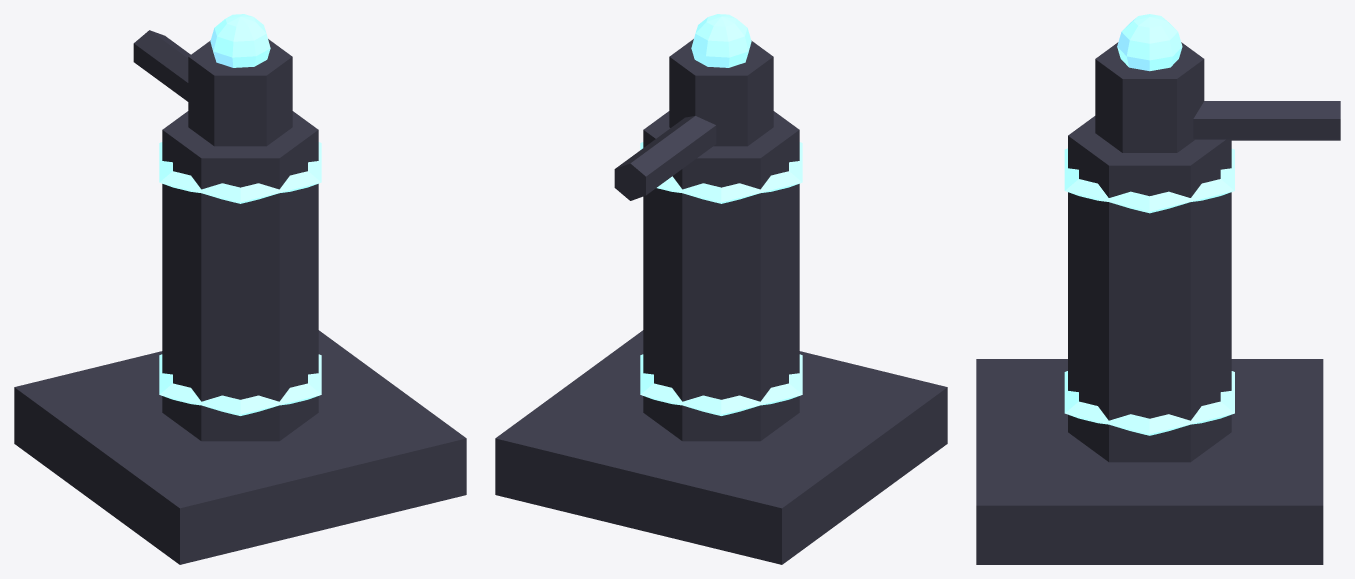
Rendered from tower_sniper.glb.
The picture shows the model from 3 angles, left to right: view 1: azimuth 30°, elevation 25°; view 2: azimuth 150°, elevation 25°; view 3: azimuth 270°, elevation 25°; orthographic projection. The views are drawn at different scales.
Visible parts, largest first — view 1: tower_sniper; view 2: tower_sniper; view 3: tower_sniper.
Part boxes in pixels (left/top/right/bottom): tower_sniper: left=14, top=14, right=466, bottom=564; tower_sniper: left=495, top=14, right=947, bottom=564; tower_sniper: left=976, top=14, right=1340, bottom=564.
Size of the model in its own units: 0.6364 by 0.96 by 0.6682.
